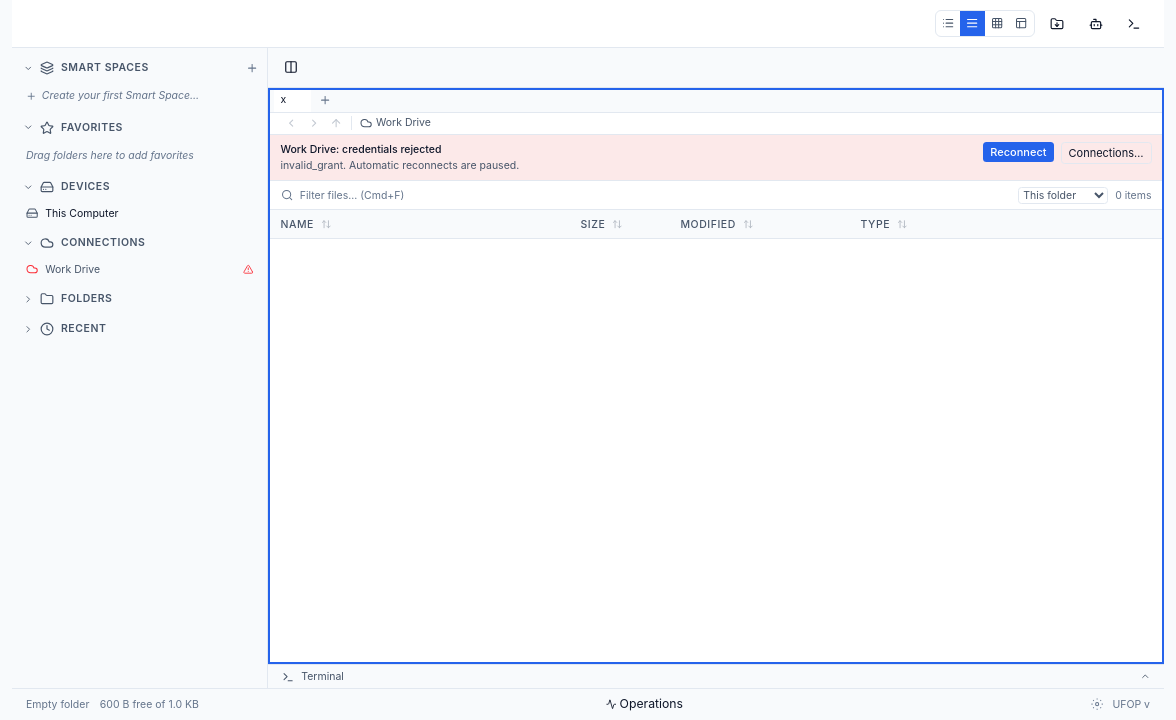
Scenario: connections in the panes › shows why a connection folder cannot be listed, with Reconnect
The image size is (1176, 720).
Expected: the message with test id "remote-error-state" shows "credentials rejected", top-left (280, 143), bottom-right (442, 156)
Expected: the text "Reports" is not shown
Step 1. Click the button with test id "remote-reconnect" → (1018, 152), box top-left (983, 142), bottom-right (1054, 162)
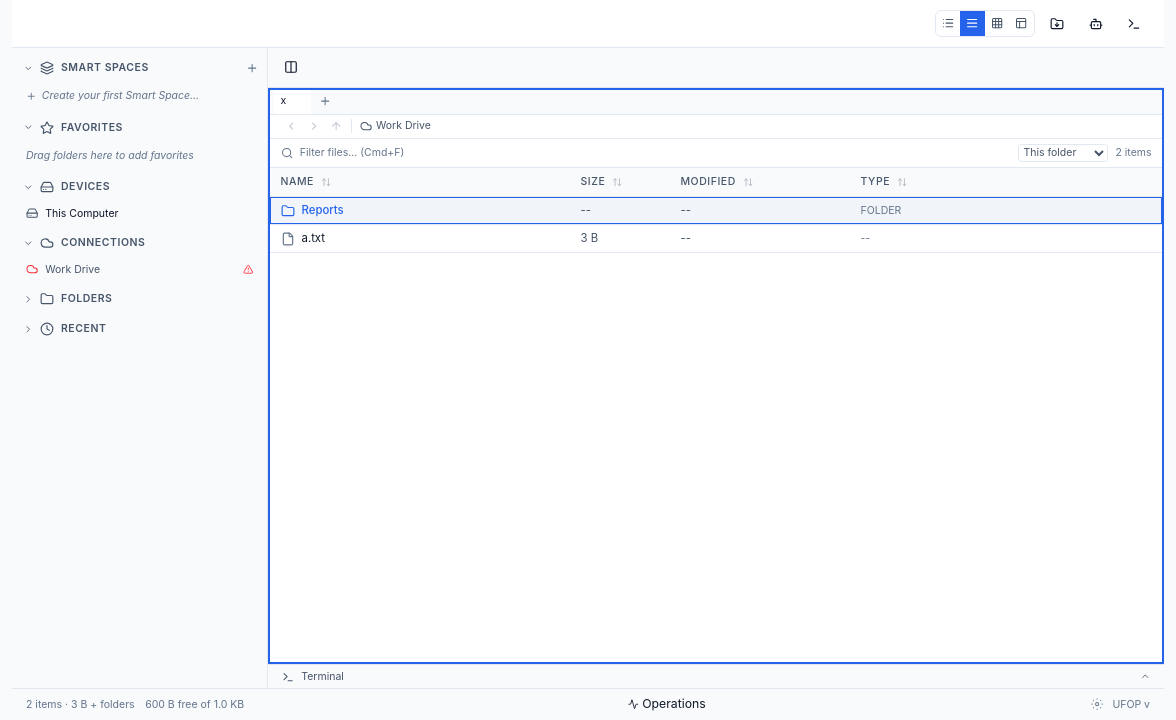
Expected: the text "Reports" is shown, top-left (302, 202), bottom-right (344, 220)
Expected: the message with test id "remote-error-state" is gone
